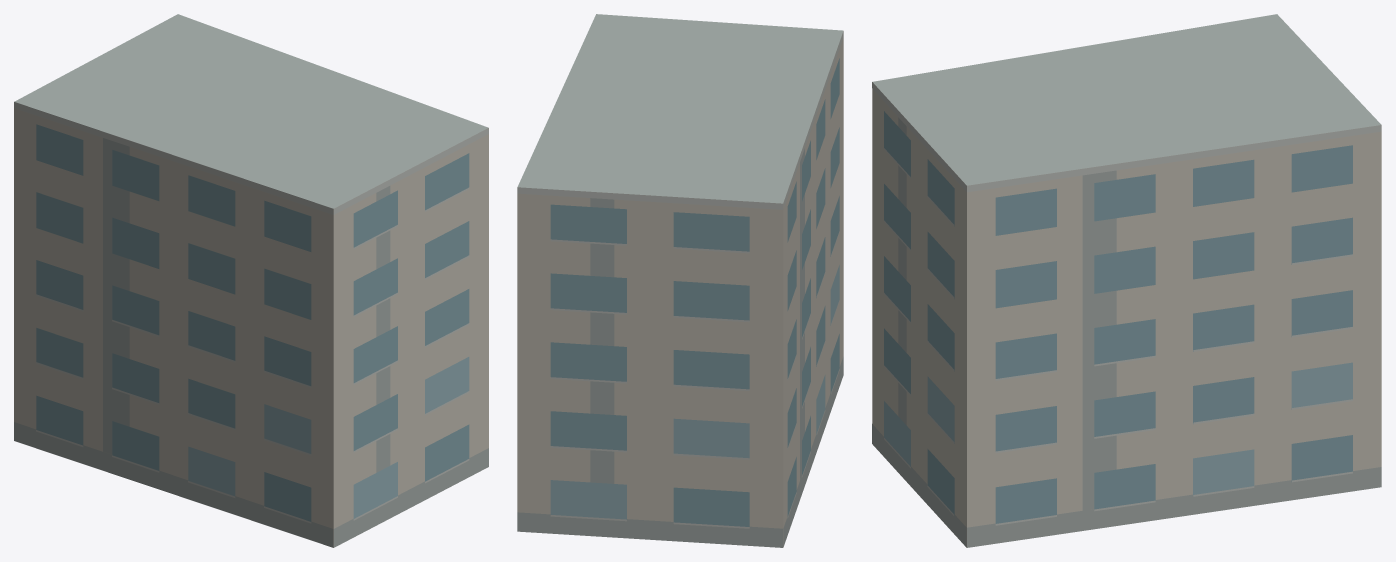
The model's file is survey-upis-32888481.glb.
The picture shows the model from 3 angles, left to right: view 1: azimuth 30°, elevation 25°; view 2: azimuth 150°, elevation 25°; view 3: azimuth 270°, elevation 25°; orthographic projection. The views are drawn at different scales.
Parts seen in each view (by area): view 1: survey-upis-32888481.tmp; view 2: survey-upis-32888481.tmp; view 3: survey-upis-32888481.tmp.
Boxes of the visible parts, bbox=[...] form: survey-upis-32888481.tmp: bbox=[14, 14, 488, 547]; survey-upis-32888481.tmp: bbox=[517, 14, 843, 547]; survey-upis-32888481.tmp: bbox=[872, 14, 1381, 547].
Size of the model in its own units: 13.43 by 13.2 by 16.84.
